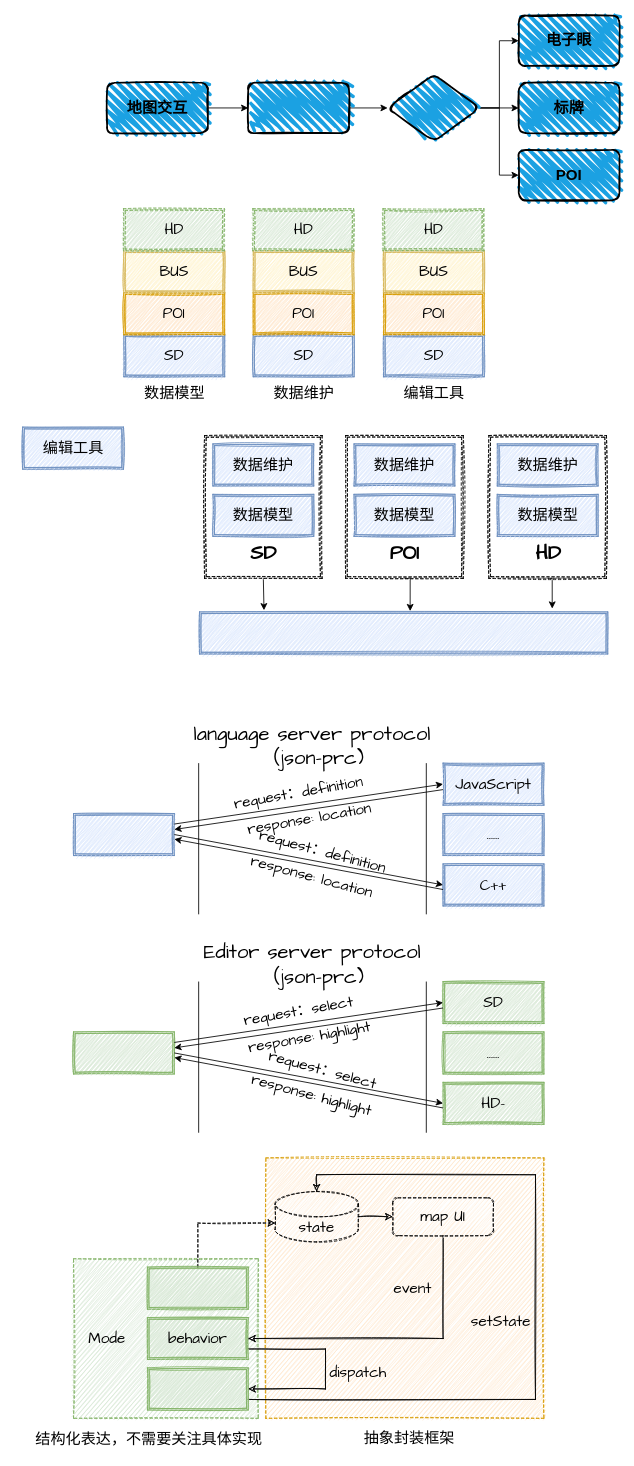
This 634x1466 diagram has some shape labels left out. Here are the shapes that lost their labels. From the top down, the centre of each, then its label:
At [298,107]: "新增点".
At [433,107]: "点类型？".
At [403,632]: "container".
At [123,834]: "开发工具".
At [123,1052]: "编辑器".
At [197,1287]: "custom state".
At [197,1388]: "reducer".
